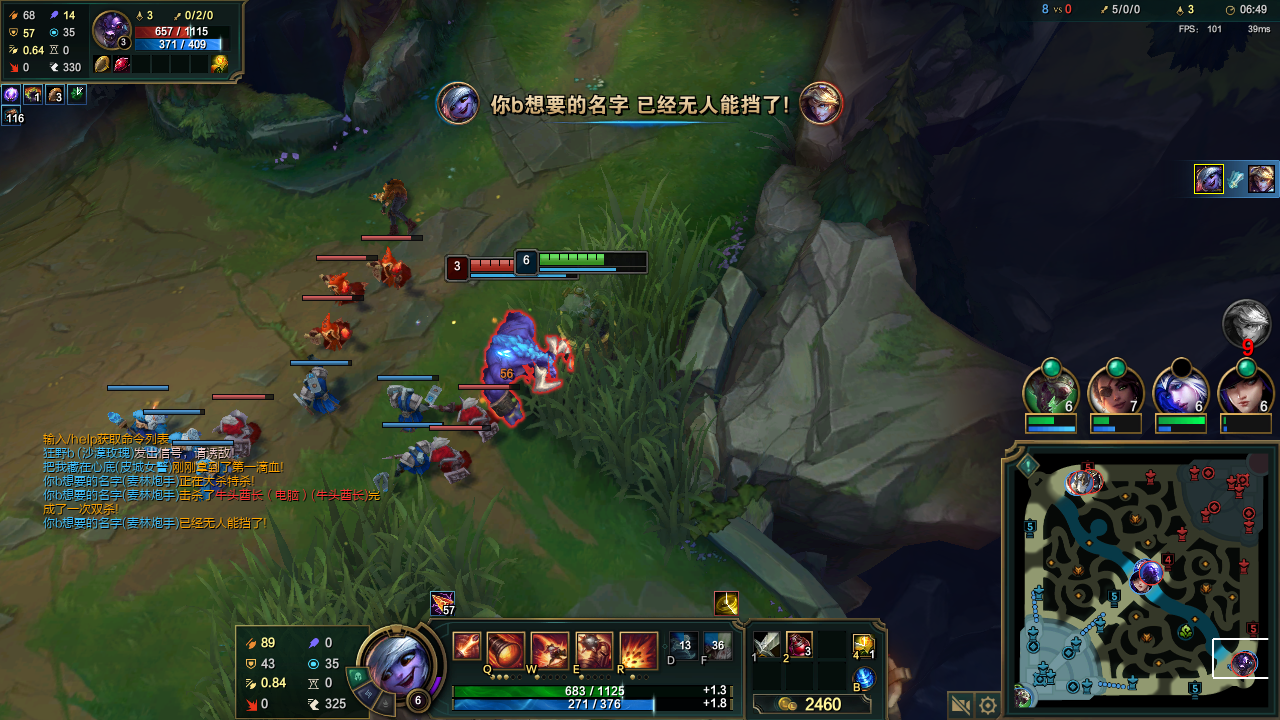DFXB: (209, 409, 270, 462), (305, 309, 367, 360), (455, 396, 514, 449), (425, 431, 474, 487), (368, 245, 417, 294), (321, 266, 370, 313)
DFYX: (462, 253, 514, 281)
WFXB: (377, 437, 442, 495), (290, 373, 347, 418), (385, 385, 443, 427), (182, 449, 229, 496), (149, 422, 201, 458), (117, 401, 165, 434)
Yita: (1186, 674, 1204, 701)
